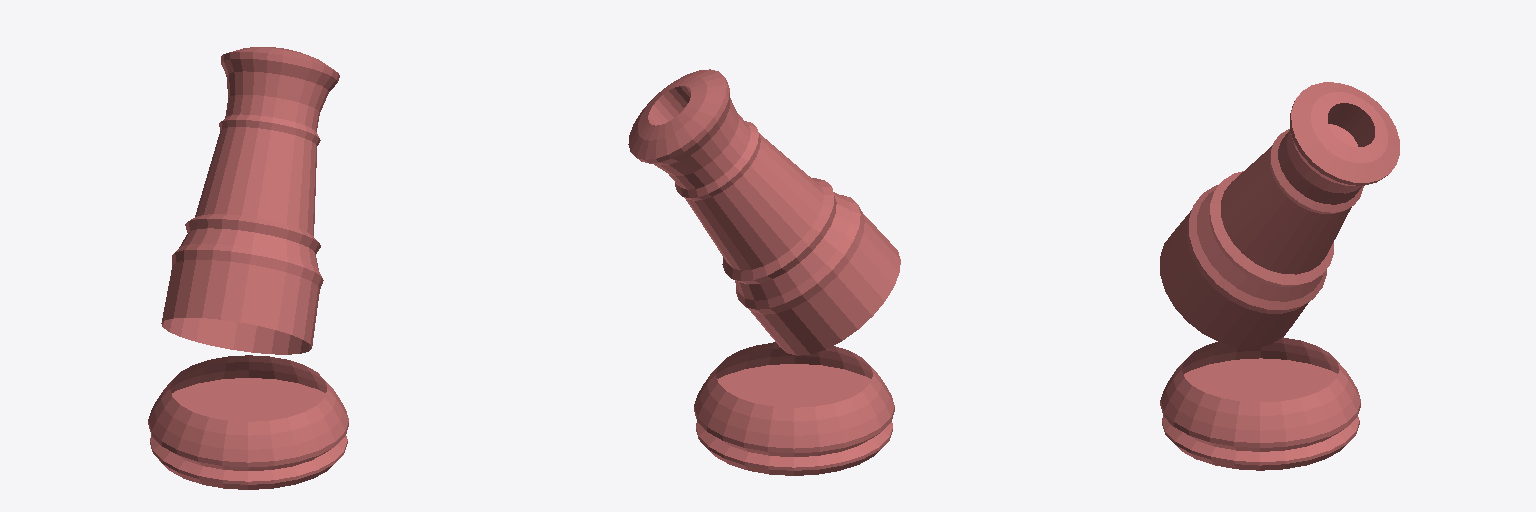
File: cannon2.obj
The picture shows the model from 3 angles: view 1: azimuth 30°, elevation 25°; view 2: azimuth 150°, elevation 25°; view 3: azimuth 270°, elevation 25°; orthographic projection.
Parts seen in each view (by area): view 1: instance_0_ID4.002, SketchUp_ID12.002; view 2: instance_0_ID4.002, SketchUp_ID12.002; view 3: instance_0_ID4.002, SketchUp_ID12.002.
Boxes of the visible parts, box(x1,y1,x2,y2) form: instance_0_ID4.002: box(161, 47, 339, 354); SketchUp_ID12.002: box(148, 355, 348, 489); instance_0_ID4.002: box(628, 69, 900, 355); SketchUp_ID12.002: box(694, 342, 894, 475); instance_0_ID4.002: box(1160, 82, 1399, 347); SketchUp_ID12.002: box(1160, 337, 1360, 470).
Bounding box in the file's own units: 1.07 × 1.8 × 1.06.